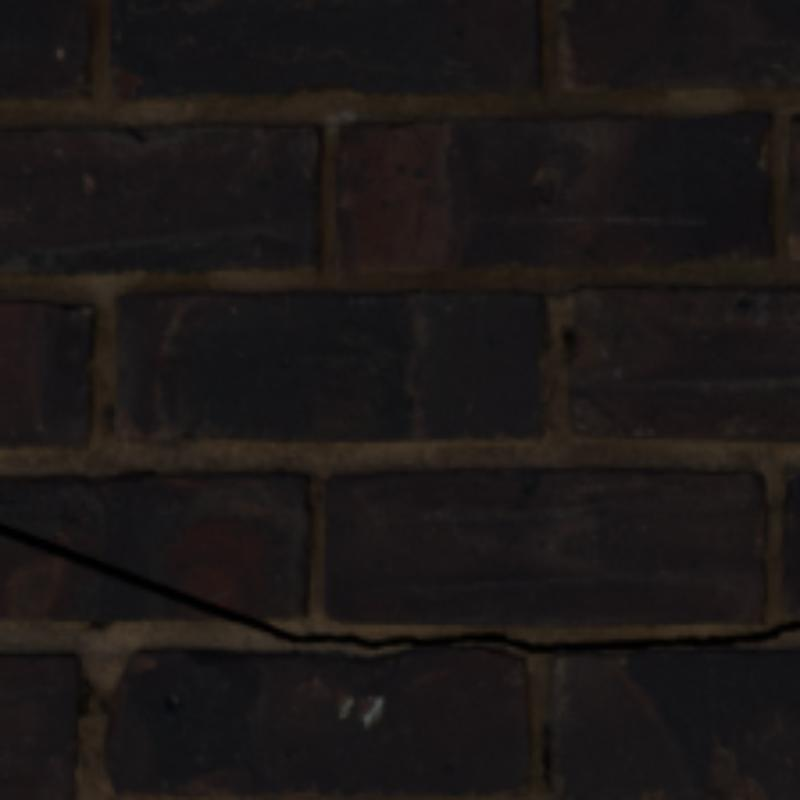crack: (0, 521, 796, 650)
